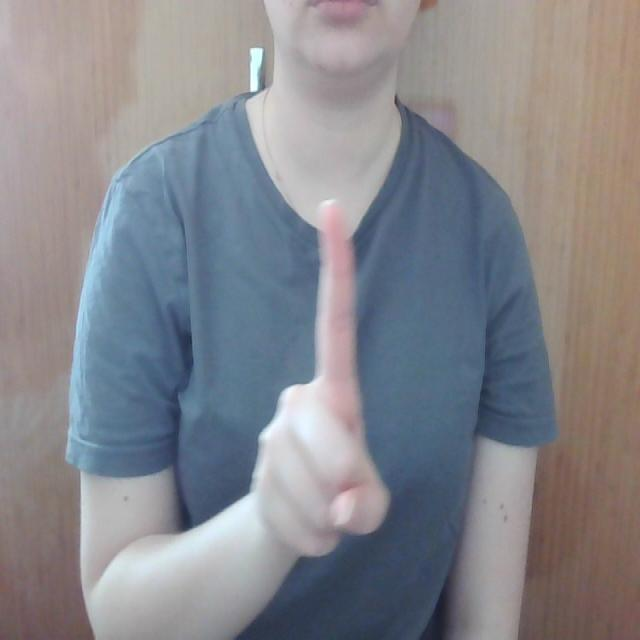Hayir: (238, 178, 395, 580)
